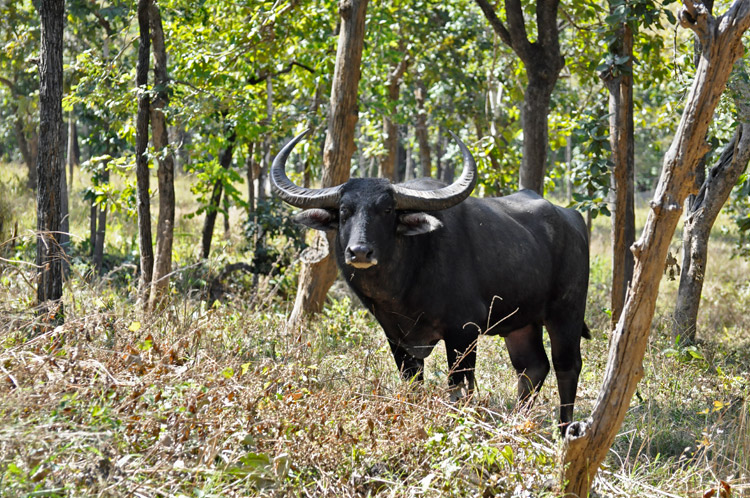buffalo: (266, 122, 590, 422)
